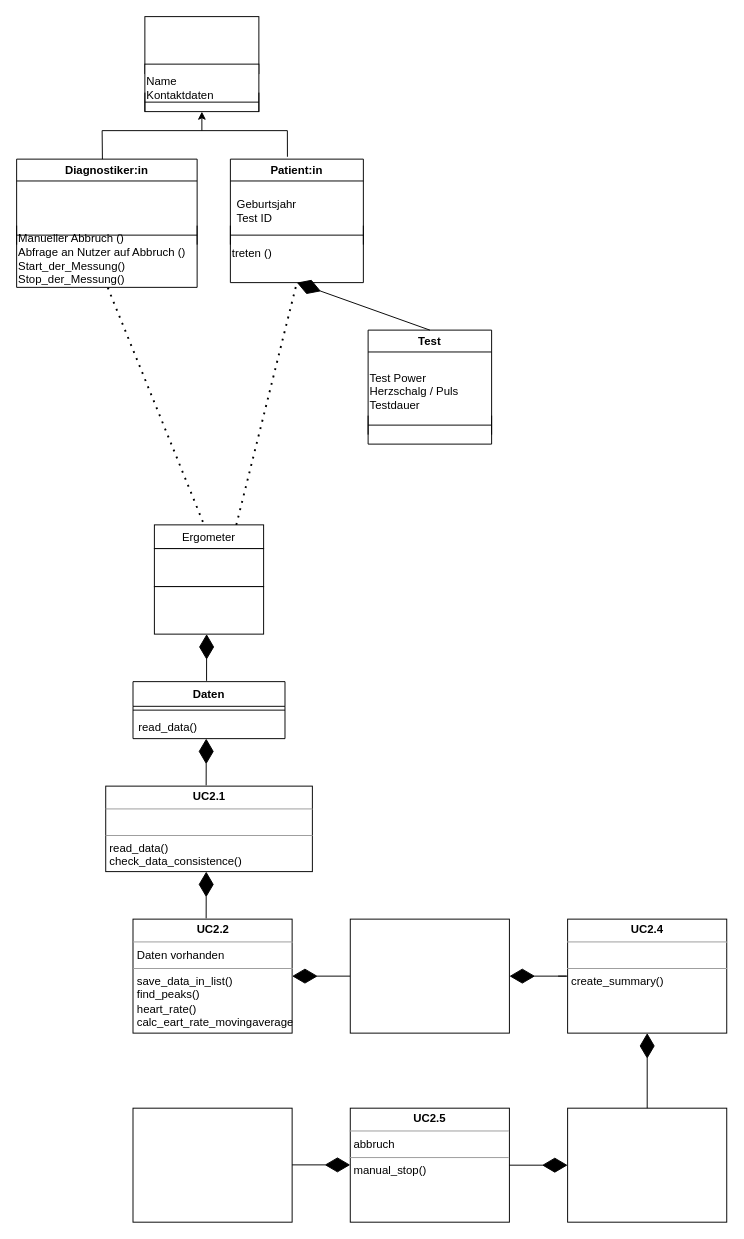
Some shapes in this 744 by 1239 pixel diagram are drawn without their labels. Each missing label, with the centre of its shape:
Personen: [201,45]
Seriennummer: [208,567]
UC2.3 Abbruch compare_heartrate_age() stop(): [429,975]
UC2.5 plot_data(): [647,1164]
UC2.5 save_data(): [212,1164]
